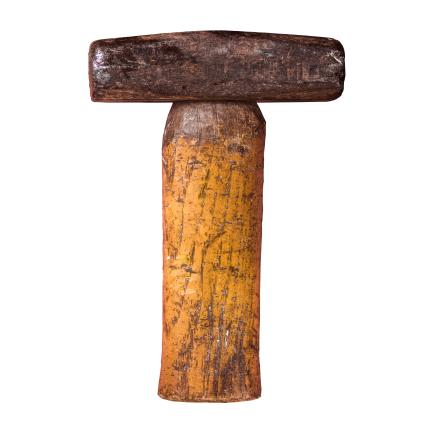karat: (89, 31, 345, 102)
